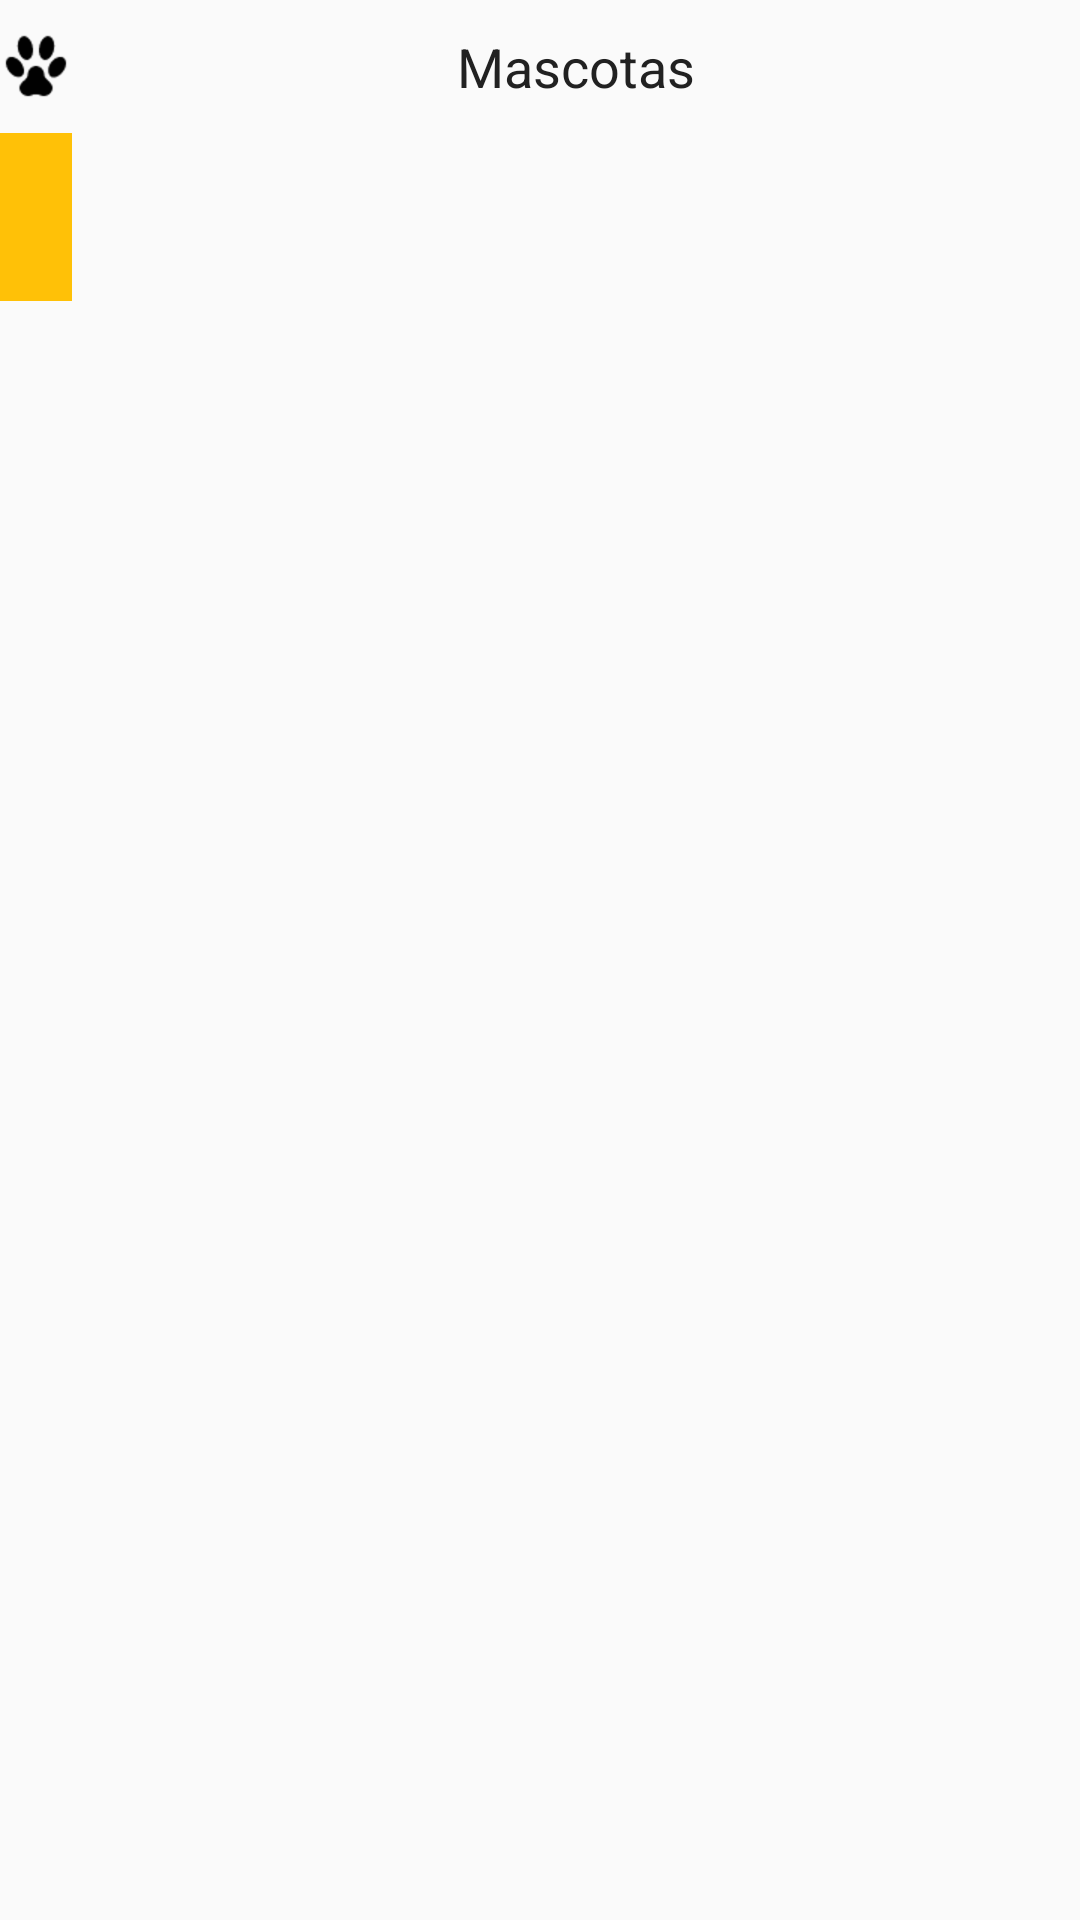

Where icons sit on this 1080 x 1920 app screen, as (x1, y1, x2, y2):
huella: (5, 35, 67, 97)
